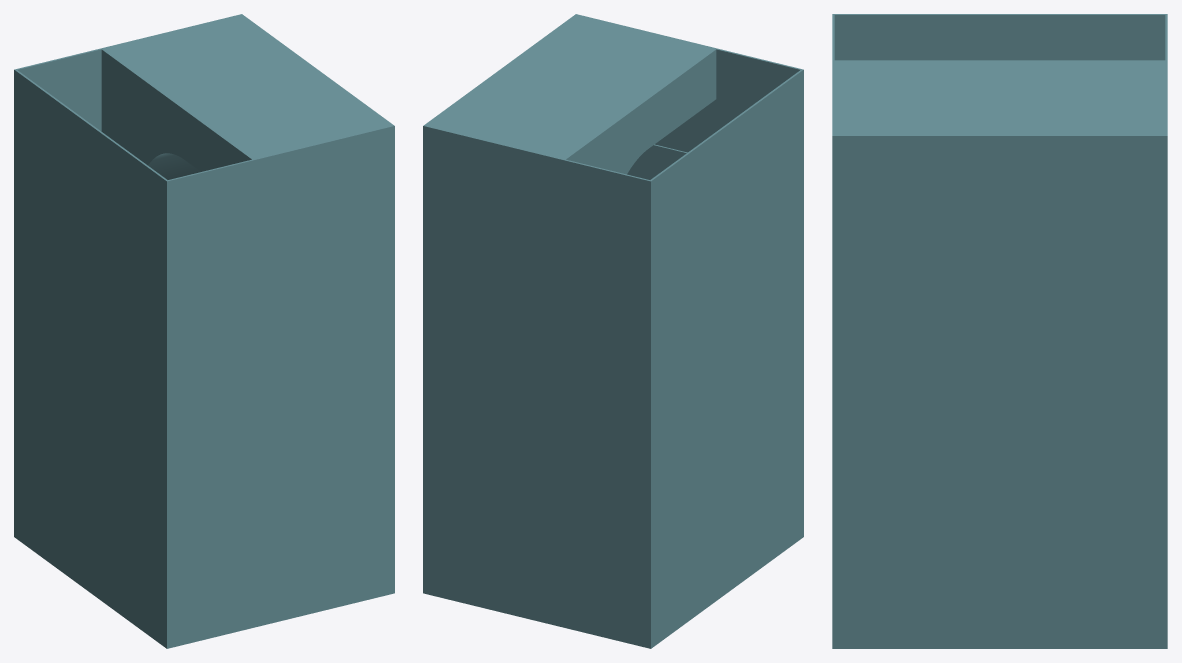
The model's file is architecture.glb.
3 views of the same model, side by side, from view 1: azimuth 30°, elevation 25°; view 2: azimuth 150°, elevation 25°; view 3: azimuth 270°, elevation 25° (orthographic). The views are drawn at different scales.
Visible parts, largest first — view 1: WALL_A002, DOOR002, CEILING001, DOOR003, DOOR001; view 2: WALL_A002, CEILING001, DOOR002; view 3: WALL_A002, CEILING001.
Boxes of the visible parts, bbox=[...] form: WALL_A002: bbox=[14, 14, 394, 648]; DOOR002: bbox=[275, 248, 372, 600]; CEILING001: bbox=[101, 15, 391, 179]; DOOR003: bbox=[269, 240, 378, 602]; DOOR001: bbox=[273, 245, 375, 601]; WALL_A002: bbox=[423, 14, 803, 648]; CEILING001: bbox=[426, 15, 716, 174]; DOOR002: bbox=[627, 149, 680, 179]; WALL_A002: bbox=[832, 14, 1167, 648]; CEILING001: bbox=[834, 60, 1165, 134].
Size of the model in its own units: 1.45 by 2.84 by 1.68.
